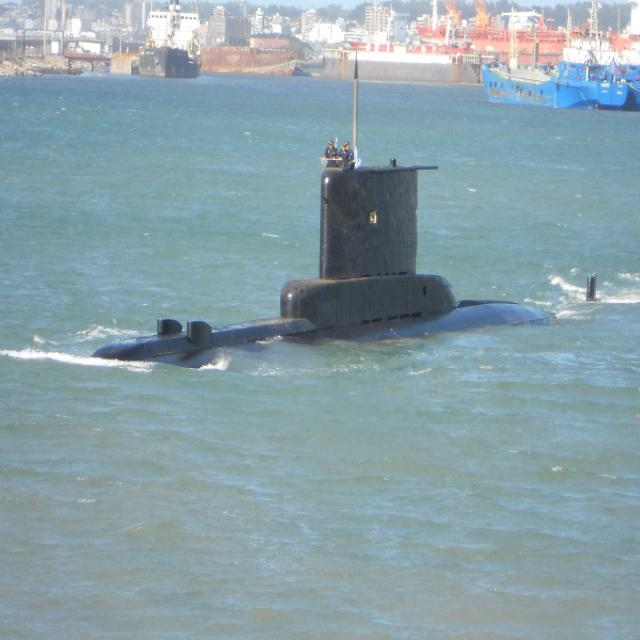submarine: (92, 41, 619, 368)
